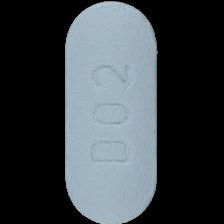63187-055: (0, 0, 224, 224)
